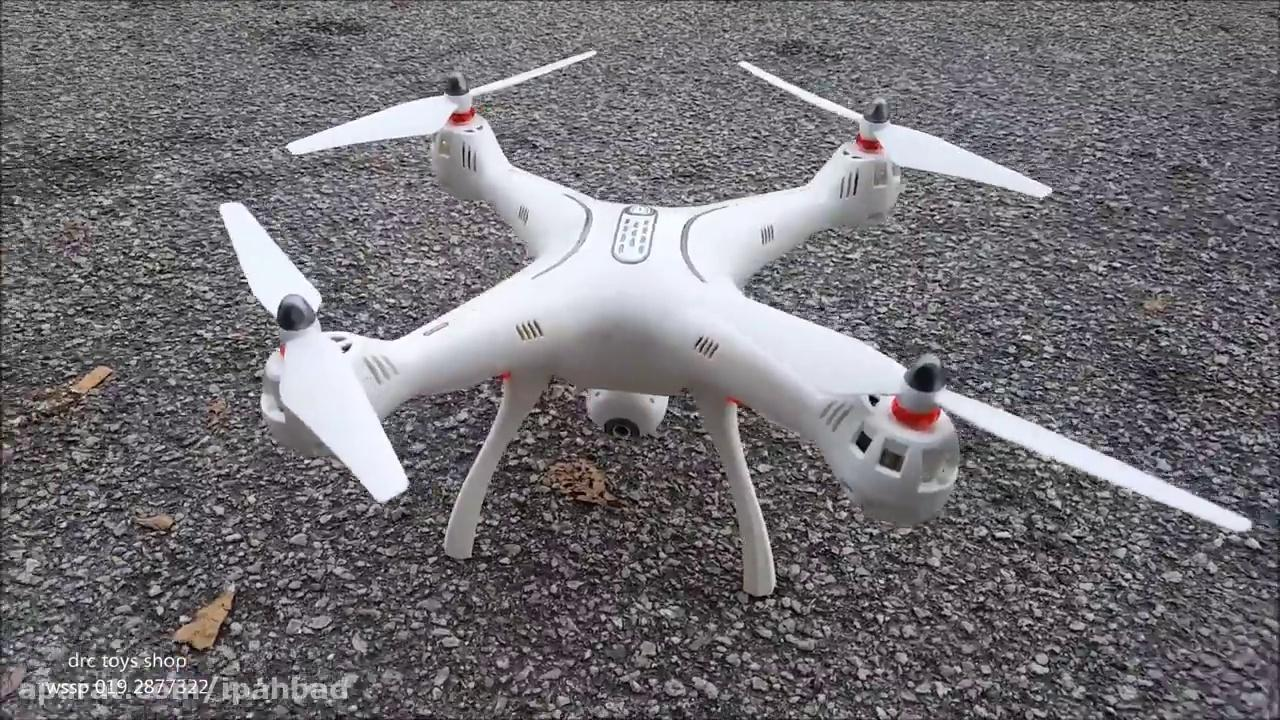drone: (214, 47, 1252, 599)
